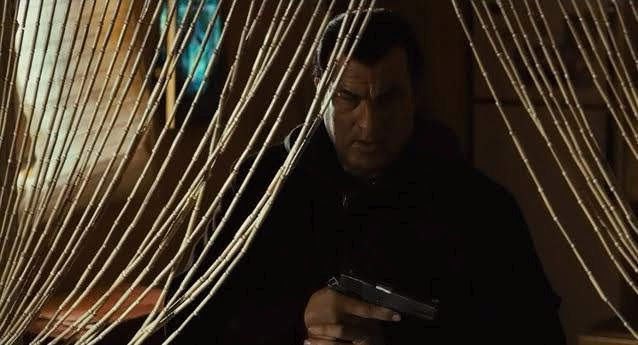gun: (311, 252, 446, 334)
